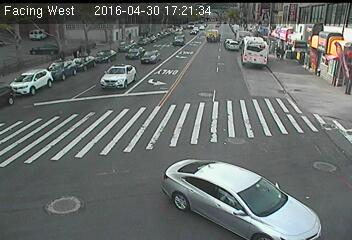neg: (290, 99, 340, 166), (217, 146, 242, 180), (305, 44, 330, 78), (76, 185, 100, 217), (126, 152, 147, 181), (48, 168, 68, 195), (20, 11, 40, 36), (139, 42, 155, 64), (255, 5, 271, 26), (136, 92, 151, 112), (229, 83, 242, 101), (147, 6, 160, 24), (63, 7, 76, 24), (298, 17, 310, 32)
pos: (272, 46, 287, 66), (276, 44, 291, 64), (124, 29, 135, 44), (57, 48, 67, 61), (72, 46, 80, 58)
